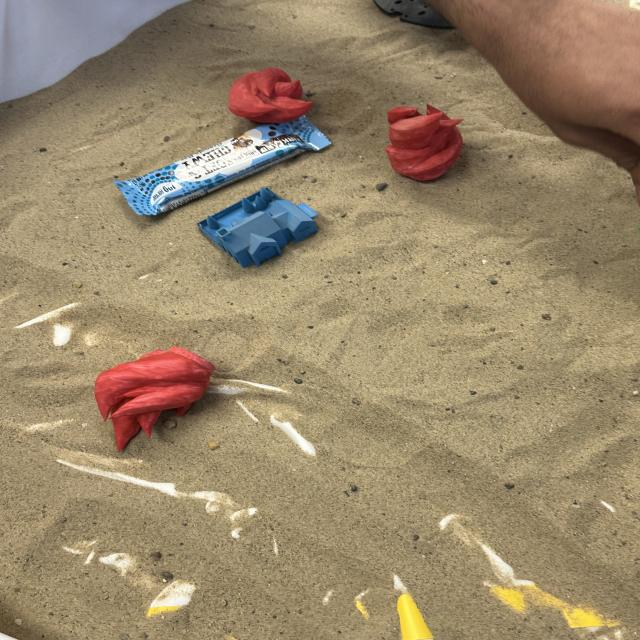fire: (92, 344, 216, 452), (383, 102, 465, 182), (231, 67, 312, 126)
house: (195, 185, 320, 269)
